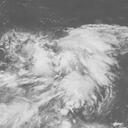cyclone: (10, 24, 106, 117)
